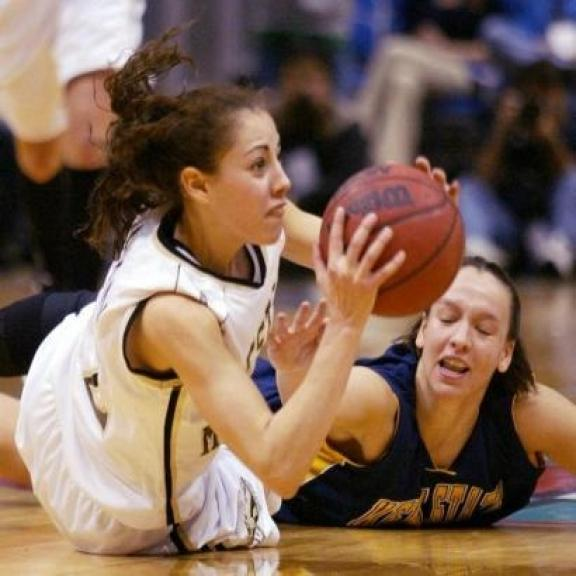face: (411, 270, 522, 407), (187, 112, 291, 242)
